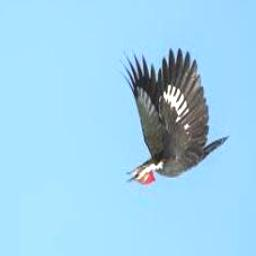Woodpecker: (120, 47, 229, 186)
